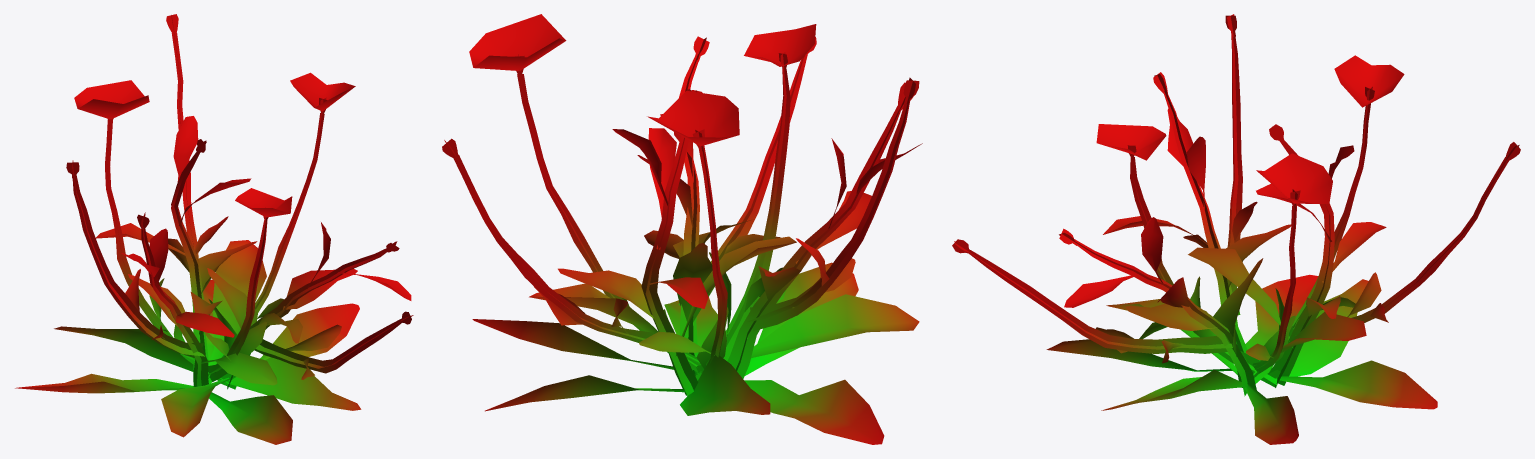
File: Field Poppy_LOD2_Var4_vmcobd0ja.fbx
3 renders of one model, left to right at view 1: azimuth 30°, elevation 25°; view 2: azimuth 150°, elevation 25°; view 3: azimuth 270°, elevation 25°, orthographic. The views are drawn at different scales.
Parts seen in each view (by area): view 1: _8au5_Var4_LOD2; view 2: _8au5_Var4_LOD2; view 3: _8au5_Var4_LOD2.
Part boxes in pixels (x1,y1,x2,y2): _8au5_Var4_LOD2: [15, 14, 413, 444]; _8au5_Var4_LOD2: [442, 14, 922, 444]; _8au5_Var4_LOD2: [952, 14, 1520, 444].
Size of the model in its own units: 55.17 by 43.63 by 76.11.
